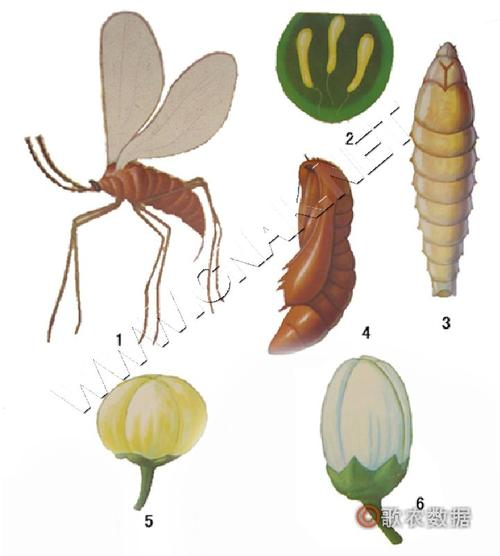Cecidomyiidae: (30, 9, 225, 346)
